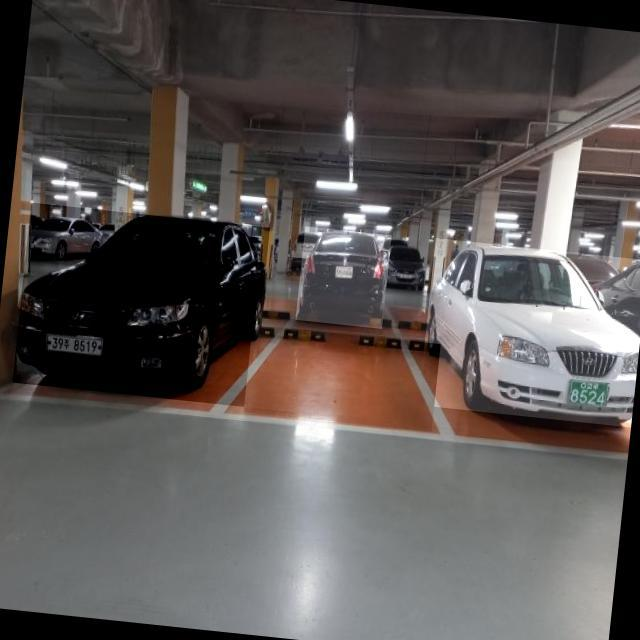empty: (243, 324, 440, 431)
occupied: (12, 202, 269, 407), (418, 238, 640, 427), (295, 226, 391, 329)
